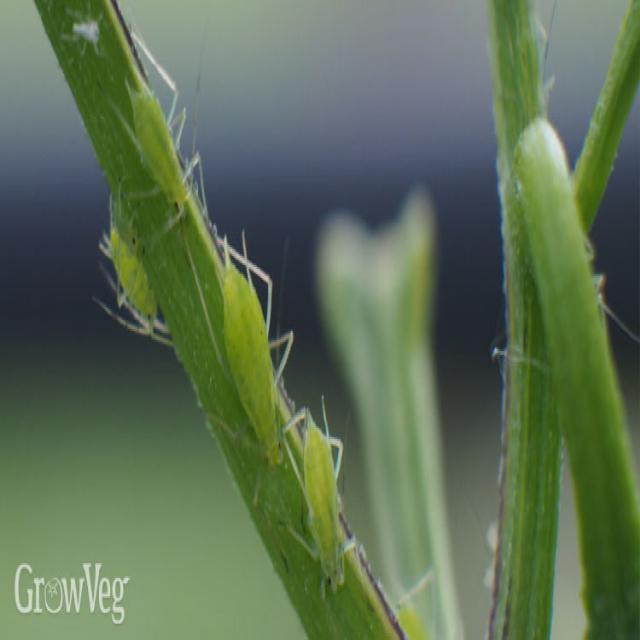Aphids: (203, 216, 290, 483), (101, 16, 208, 225), (290, 398, 361, 606), (88, 232, 172, 366)
